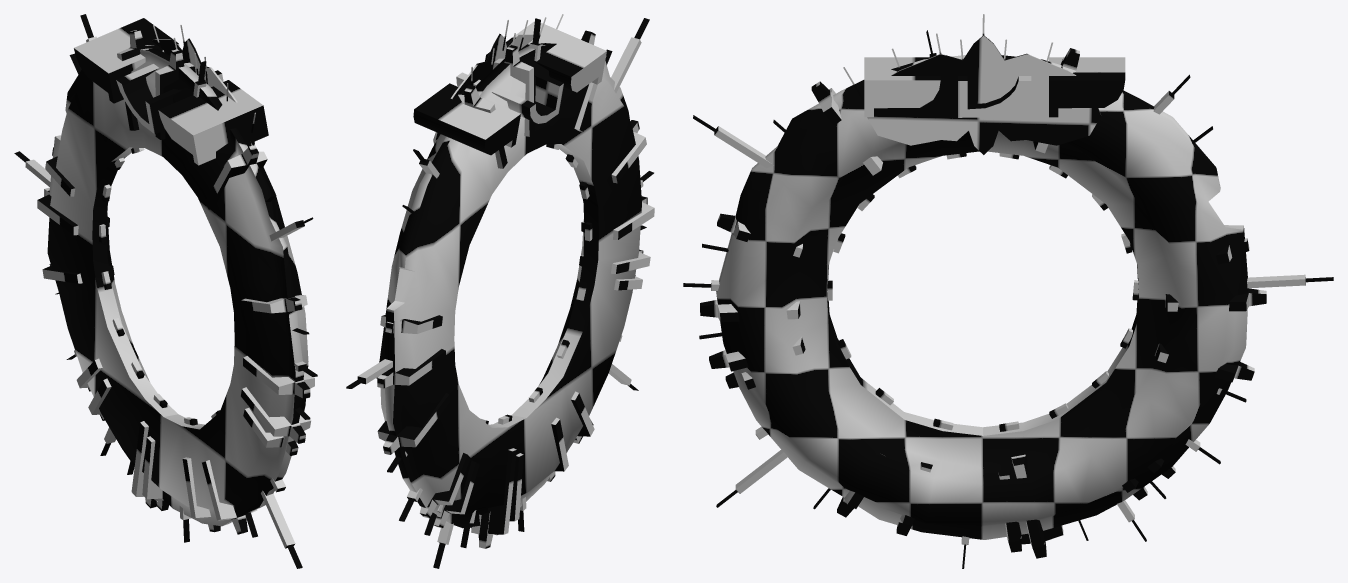
File: eventgate_pvp1.obj
3 renders of one model, left to right at view 1: azimuth 30°, elevation 25°; view 2: azimuth 150°, elevation 25°; view 3: azimuth 270°, elevation 25°, orthographic. The views are drawn at different scales.
Parts seen in each view (by area): view 1: eventgate_pvp1; view 2: eventgate_pvp1; view 3: eventgate_pvp1.
Boxes of the visible parts, <box> form: eventgate_pvp1: <box>14,14,317,568</box>; eventgate_pvp1: <box>346,14,654,568</box>; eventgate_pvp1: <box>683,14,1333,568</box>.
Size of the model in its own units: 61.43 by 385 by 408.
Materials: 1 (1 with a texture image).
